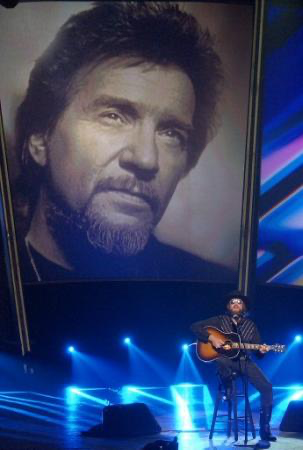Face: (58, 64, 204, 271), (225, 296, 246, 318)
